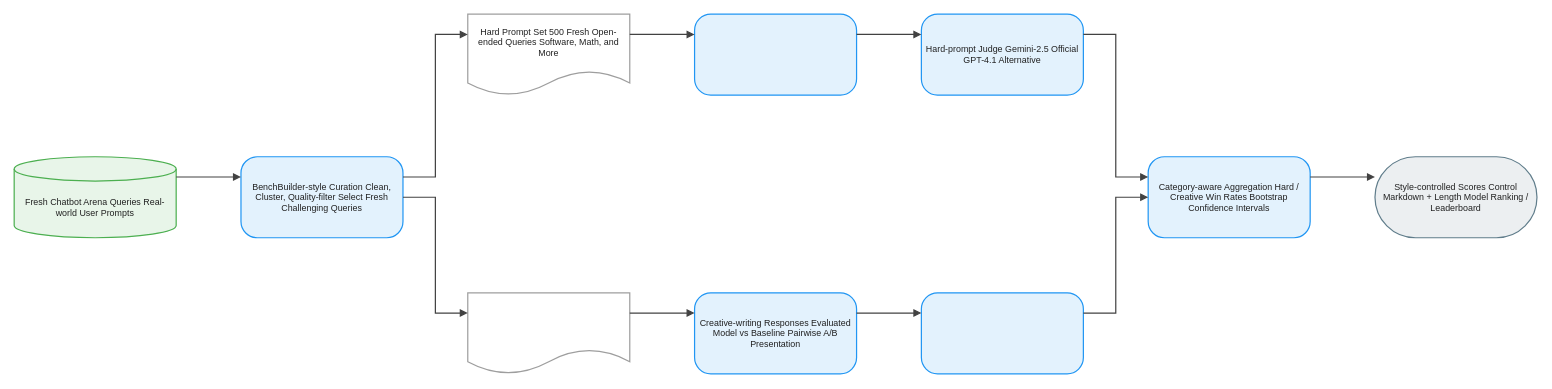
The diagram is 1552 pixels wide and 389 high, and some of its shapes have lost their labels. Each missing label, with the centre of its shape:
"Creative-writing Ensemble GPT-4.1 + Gemini-2.5 Independent Judgments" belongs at point 1002,333.
"Creative-writing Set 250 Arena Queries" belongs at point 548,333.
"Hard-set Responses Evaluated Model vs Baseline Pairwise A/B Presentation" belongs at point 775,54.
